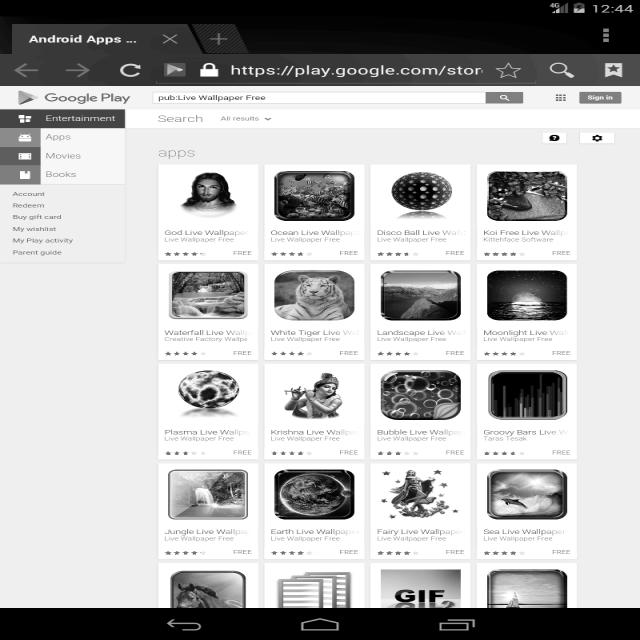Button: (574, 87, 626, 107)
ImageButton: (6, 58, 51, 82), (591, 56, 631, 82), (491, 58, 533, 80), (541, 60, 579, 80), (58, 62, 89, 84), (590, 25, 622, 46), (109, 64, 145, 82)
ImageView: (377, 371, 466, 422), (278, 271, 362, 319), (164, 171, 250, 217), (3, 87, 45, 181), (478, 169, 556, 219), (278, 468, 348, 516), (170, 274, 246, 316)
RatingBar: (259, 346, 328, 360), (480, 443, 525, 459), (477, 346, 534, 358), (374, 547, 421, 558), (159, 248, 208, 258)
TextView: (230, 61, 466, 79), (371, 524, 466, 542), (160, 223, 247, 242), (374, 324, 463, 342)
